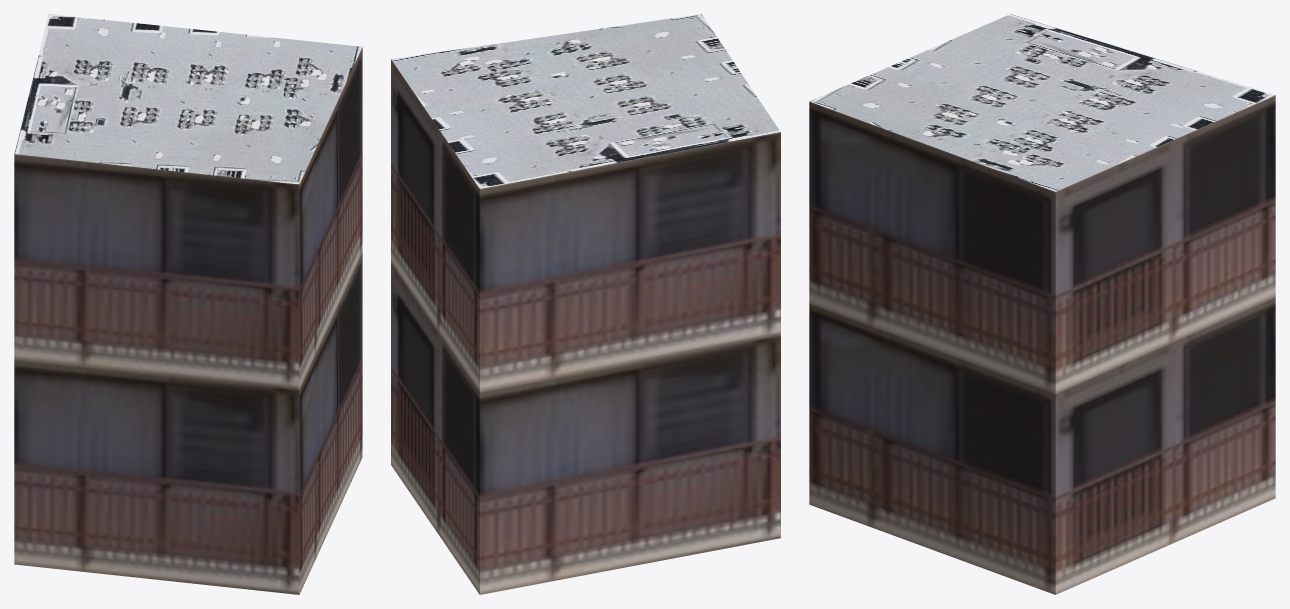
Rendered from ResTex__4903.fbx.
3 views of the same model, side by side, from view 1: azimuth 30°, elevation 25°; view 2: azimuth 150°, elevation 25°; view 3: azimuth 270°, elevation 25° (orthographic).
Visible parts, largest first — view 1: CityEngineMaterial_6_m, CityEngineMaterial_2_m; view 2: CityEngineMaterial_6_m, CityEngineMaterial_2_m; view 3: CityEngineMaterial_6_m, CityEngineMaterial_2_m.
Part boxes in pixels (bbox=[...]): CityEngineMaterial_6_m: bbox=[14, 47, 362, 594]; CityEngineMaterial_2_m: bbox=[14, 14, 362, 184]; CityEngineMaterial_6_m: bbox=[391, 59, 780, 594]; CityEngineMaterial_2_m: bbox=[391, 14, 780, 188]; CityEngineMaterial_6_m: bbox=[809, 95, 1275, 594]; CityEngineMaterial_2_m: bbox=[809, 14, 1275, 191].
Bounding box in the file's own units: 5.68 × 6 × 6.29.
2 materials, 2 textured.
